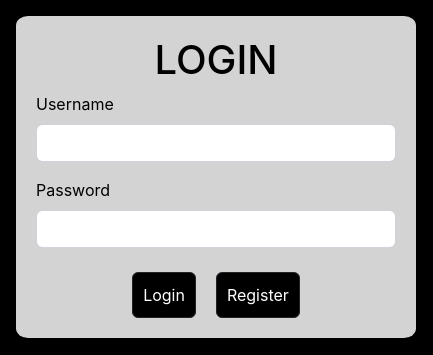
Test: Login page tests › Should redirect to register
What coordinates should you click on to do the following:
click the button "Register"
I would click on:
 (258, 295)
Its box is left=216, top=272, right=300, bottom=318.
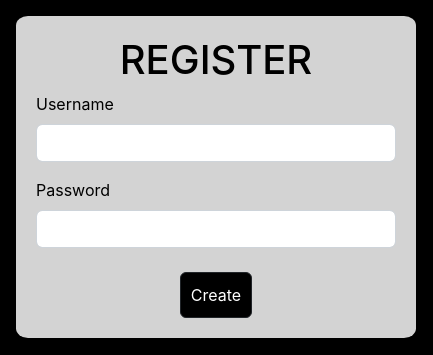
Check: the button "Create" is shown, box left=180, top=272, right=252, bottom=318
